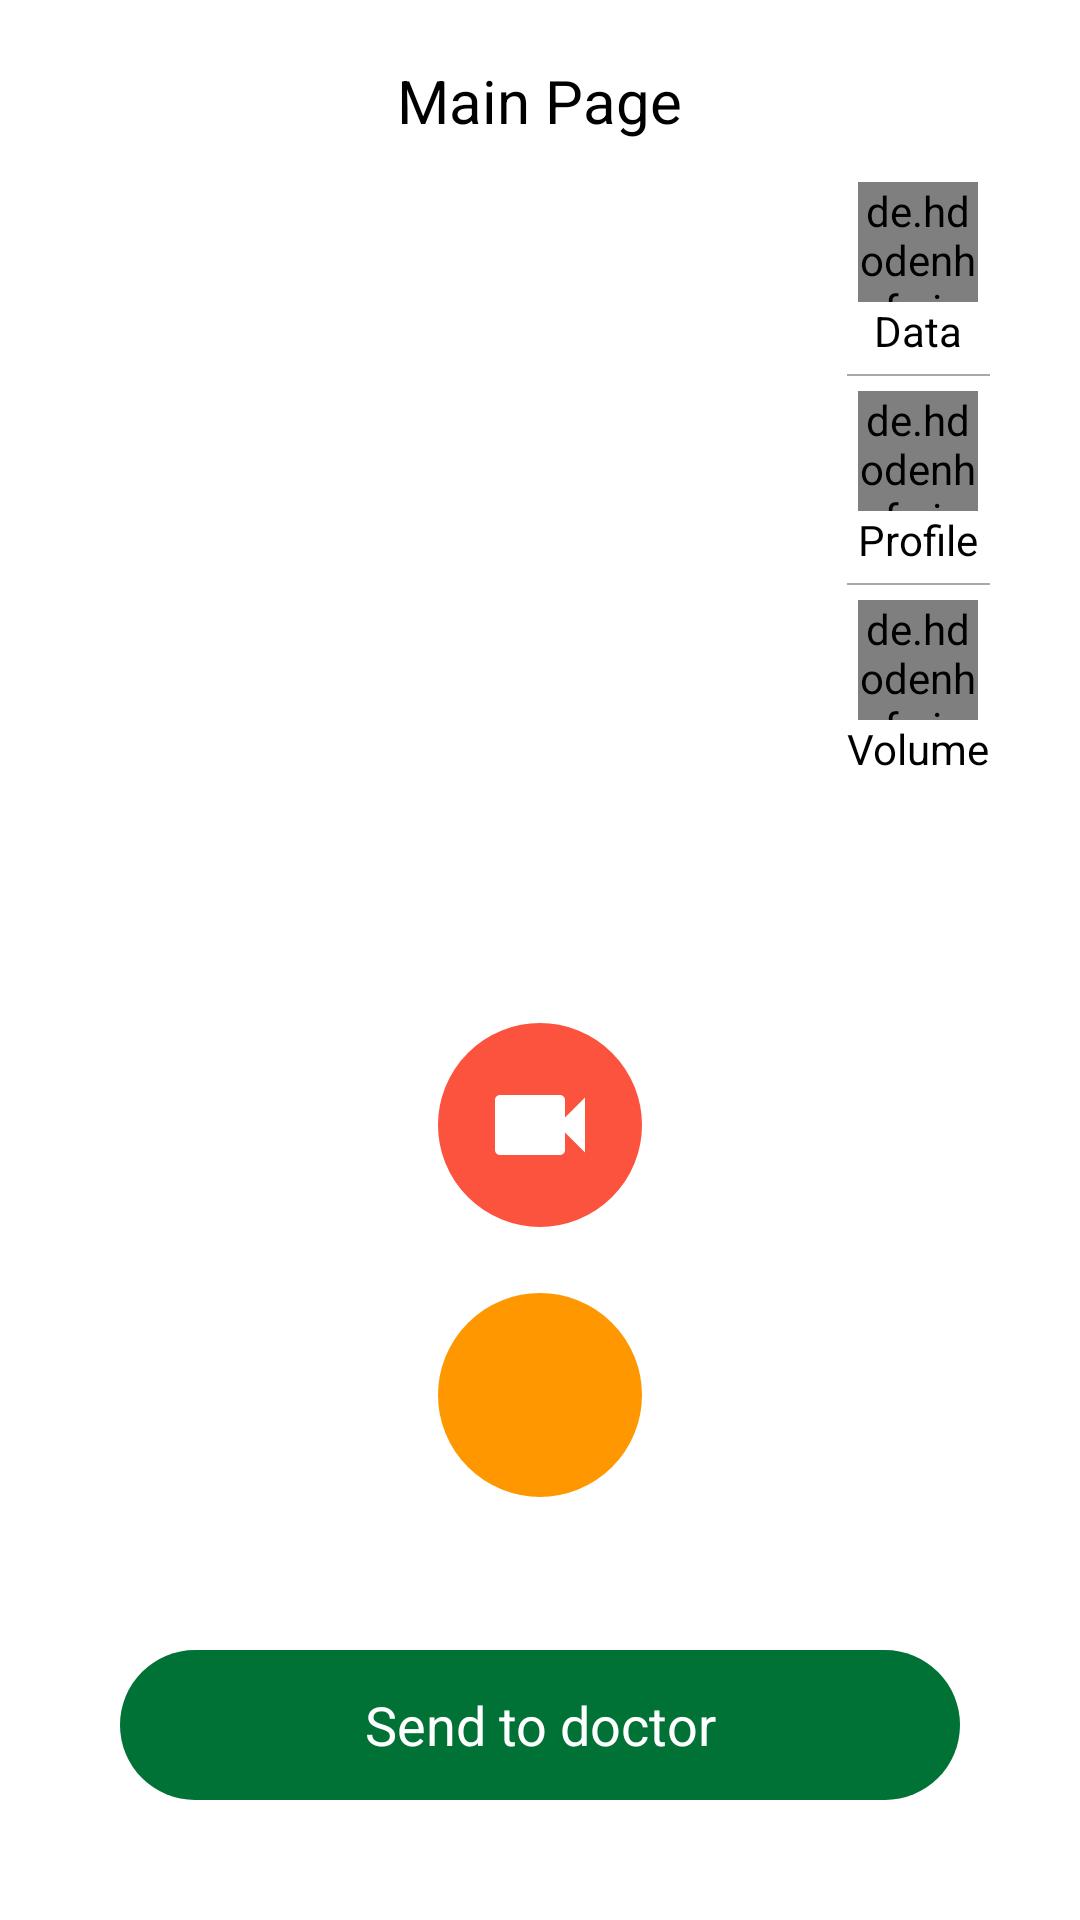

Where to tap for icons on this 1080px×1920px app screen, as (x,y):
videocam: (540,1125)
